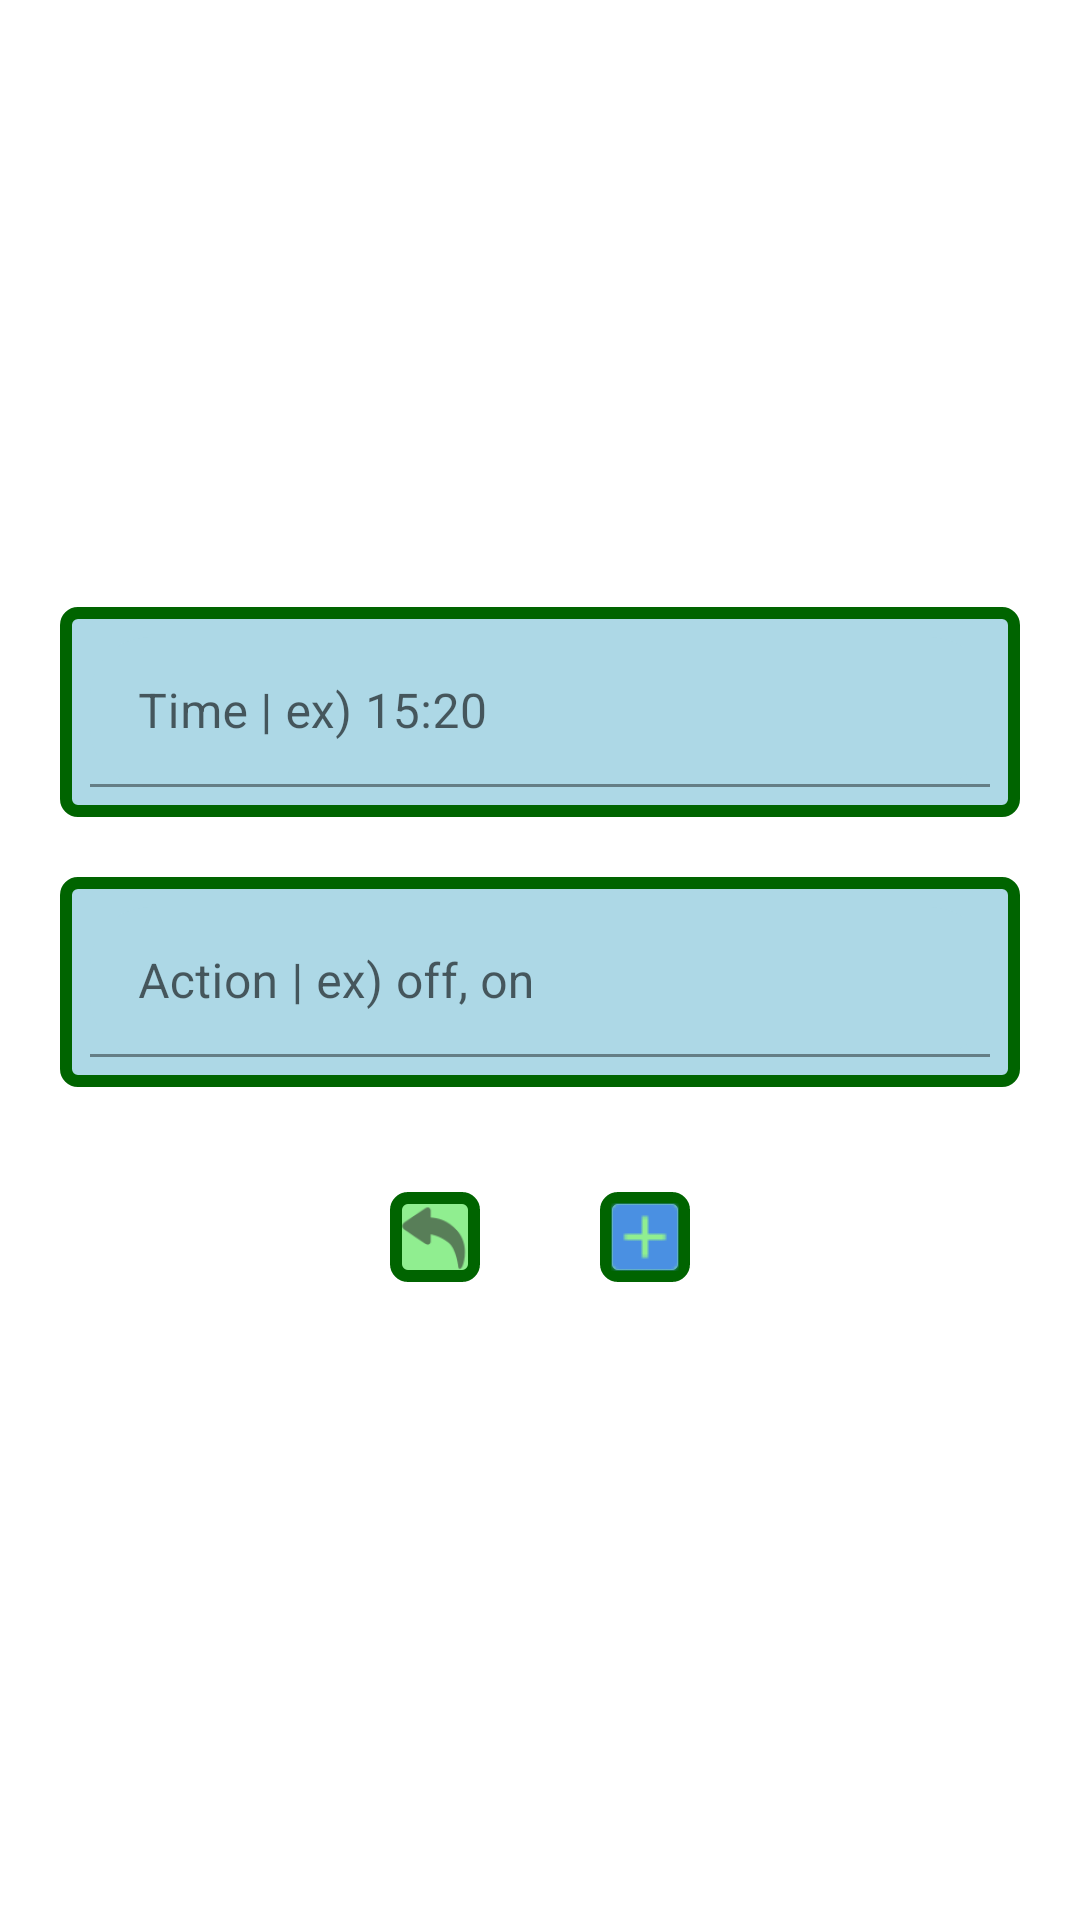

Where icons sit on this 1080*1920 app screen, as (x1, y1, x2, y2):
add: (600, 1192, 690, 1282)
back: (390, 1192, 480, 1282)
